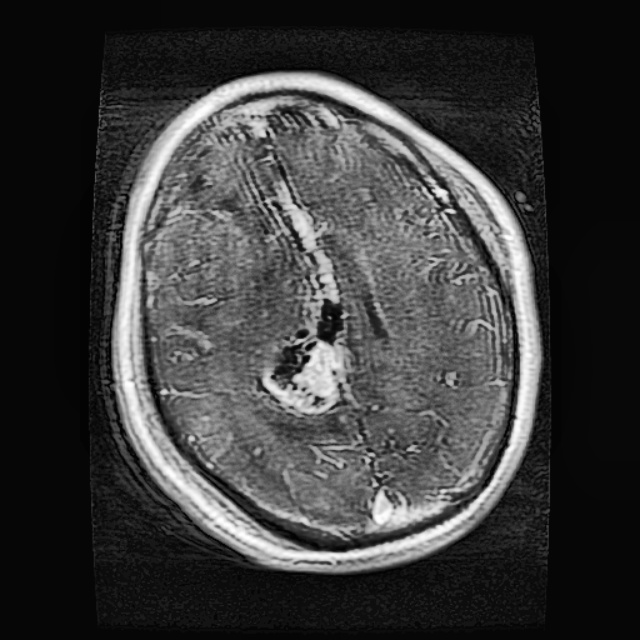Pituitary: (263, 298, 350, 414)
